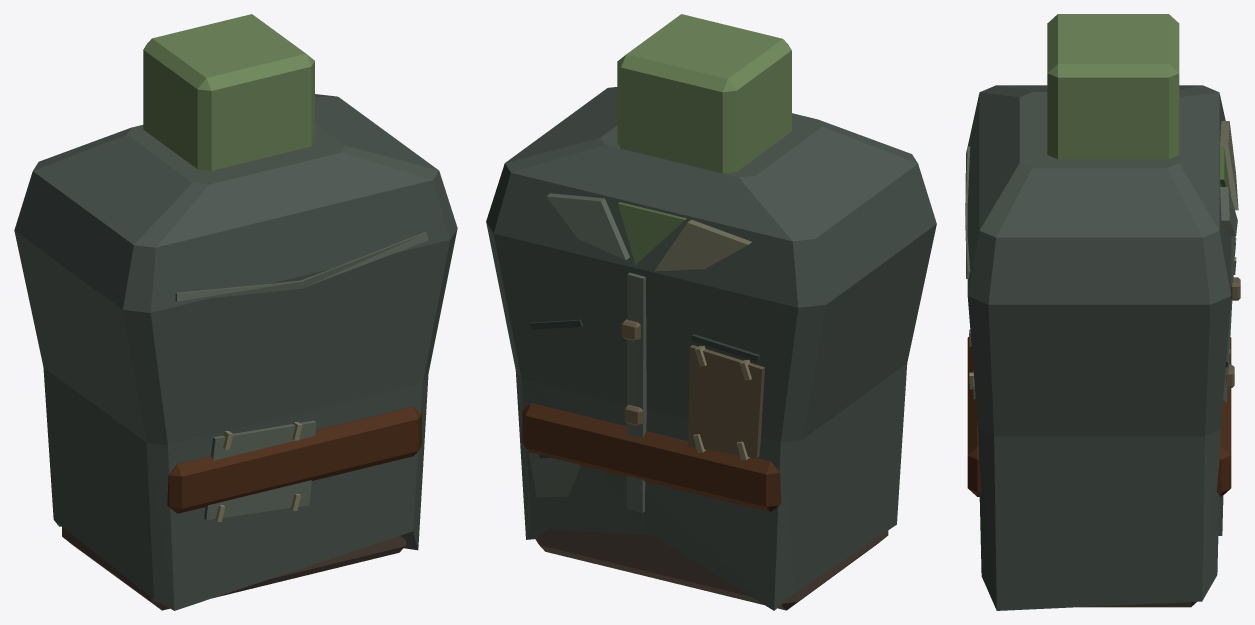
The model's file is Body.glb.
3 views of the same model, side by side, from view 1: azimuth 30°, elevation 25°; view 2: azimuth 150°, elevation 25°; view 3: azimuth 270°, elevation 25° (orthographic). The views are drawn at different scales.
Visible parts, largest first — view 1: Sculpture; view 2: Sculpture; view 3: Sculpture.
Part boxes in pixels (x1,y1,x2,y2): Sculpture: [14, 14, 457, 610]; Sculpture: [486, 14, 936, 610]; Sculpture: [965, 14, 1240, 610].
Bounding box in the file's own units: 0.57 × 0.81 × 0.3972.
